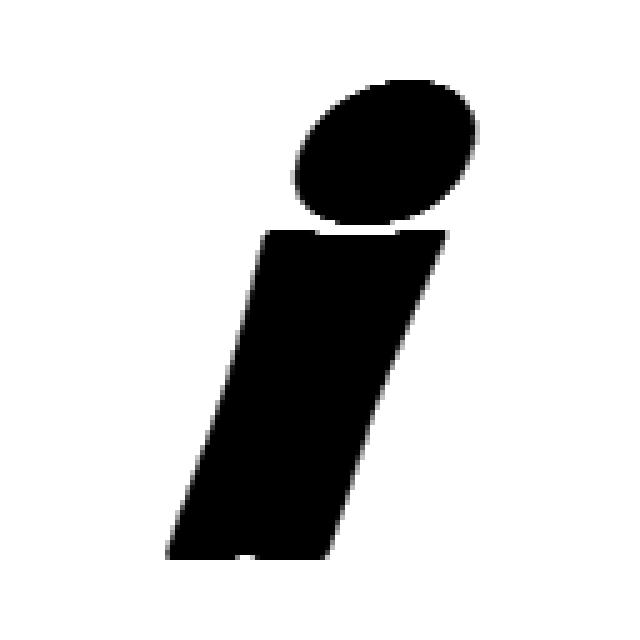I: (157, 65, 484, 572)
